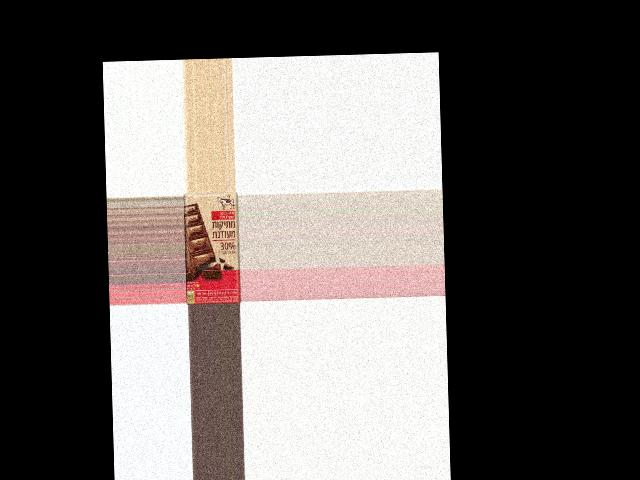chocolate: (183, 191, 241, 304)
